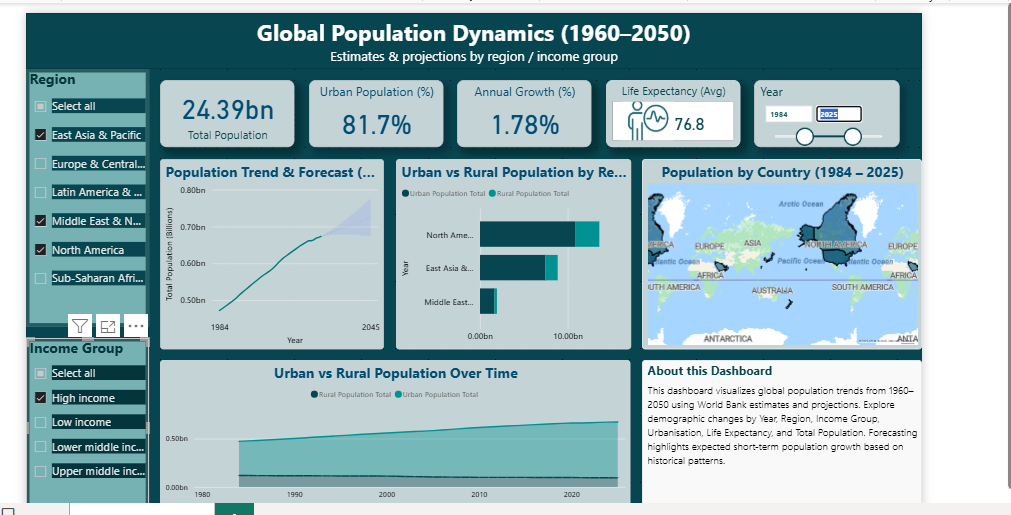

The dashboard page shown, as its layout file describes it:
{"tool":"powerbi","page":{"name":"Duplicate of Page 1","canvas":[1280,720],"ordinal":0},"visuals":[{"type":"shape","box":[0,0,176,720],"z":0},{"type":"shape","box":[0,0,1280,80],"z":1000},{"type":"textbox","box":[0,0,1280,80],"z":2000},{"type":"slicer","title":"Year","fields":{"Values":["Year.Value"]},"box":[1040,96,208,96],"z":3000},{"type":"card","title":"World Population","fields":{"Values":["Population Figures & Projections.Total Population"]},"box":[192,96,192,96],"z":4000},{"type":"card","title":"Urban Population (%)","fields":{"Values":["Population Figures & Projections.Urban %"]},"box":[404,96,192,96],"z":5000},{"type":"card","title":"Annual Growth (%)","fields":{"Values":["Population Figures & Projections.Pop Growth % (YoY)"]},"box":[616,96,192,96],"z":6000},{"type":"lineChart","fields":{"Y":["Population Figures & Projections.Total Population"],"Category":["Year.Date.Variation.Date Hierarchy.Year"]},"box":[192,208,320,272],"z":7000},{"type":"azureMap","fields":{"Category":["List of economies.Code"]},"box":[880,208,400,272],"z":8000},{"type":"stackedAreaChart","title":"Urban vs Rural Population Over Time","fields":{"Category":["YearTable.Year"],"Y":["Population Figures & Projections.Rural Population Total","Population Figures & Projections.Urban Population Total"]},"box":[192,496,672,224],"z":9000},{"type":"barChart","fields":{"Category":["List of economies.Region"],"Y":["Population Figures & Projections.Urban Population Total","Population Figures & Projections.Rural Population Total"]},"box":[528,208,336,272],"z":10000},{"type":"textbox","title":"About this Dashboard  ","box":[880,496,400,224],"z":11000},{"type":"shape","box":[0,80,176,368],"z":12000},{"type":"slicer","title":"Region","fields":{"Values":["List of economies.Region"]},"box":[0,80,176,368],"z":13000},{"type":"shape","box":[0,464,176,256],"z":14000},{"type":"slicer","title":"Income Group","fields":{"Values":["List of economies.Income group"]},"box":[0,464,176,256],"z":15000},{"type":"cardVisual","title":"Life Expectancy (Avg)","fields":{"Data":["Population Figures & Projections.Life Expectancy Avg"]},"box":[828,96,192,96],"z":16000}]}

Visuals, with their boxes in screenshot pixels (x1, y1, x2, y2):
shape: 21/8/145/514
shape: 21/8/926/64
textbox: 21/8/926/64
"Year" slicer: 756/76/903/144
"World Population" card: 157/76/292/144
"Urban Population (%)" card: 307/76/442/144
"Annual Growth (%)" card: 456/76/592/144
lineChart - Population Figures & Projections.Total Population x Year.Date.Variation.Date Hierarchy.Year: 157/155/383/347
azureMap - List of economies.Code: 643/155/926/347
"Urban vs Rural Population Over Time" stackedAreaChart: 157/358/632/514
barChart - List of economies.Region x Population Figures & Projections.Urban Population Total: 394/155/632/347
"About this Dashboard  " textbox: 643/358/926/514
shape: 21/64/145/325
"Region" slicer: 21/64/145/325
shape: 21/336/145/514
"Income Group" slicer: 21/336/145/514
"Life Expectancy (Avg)" cardVisual: 606/76/742/144
